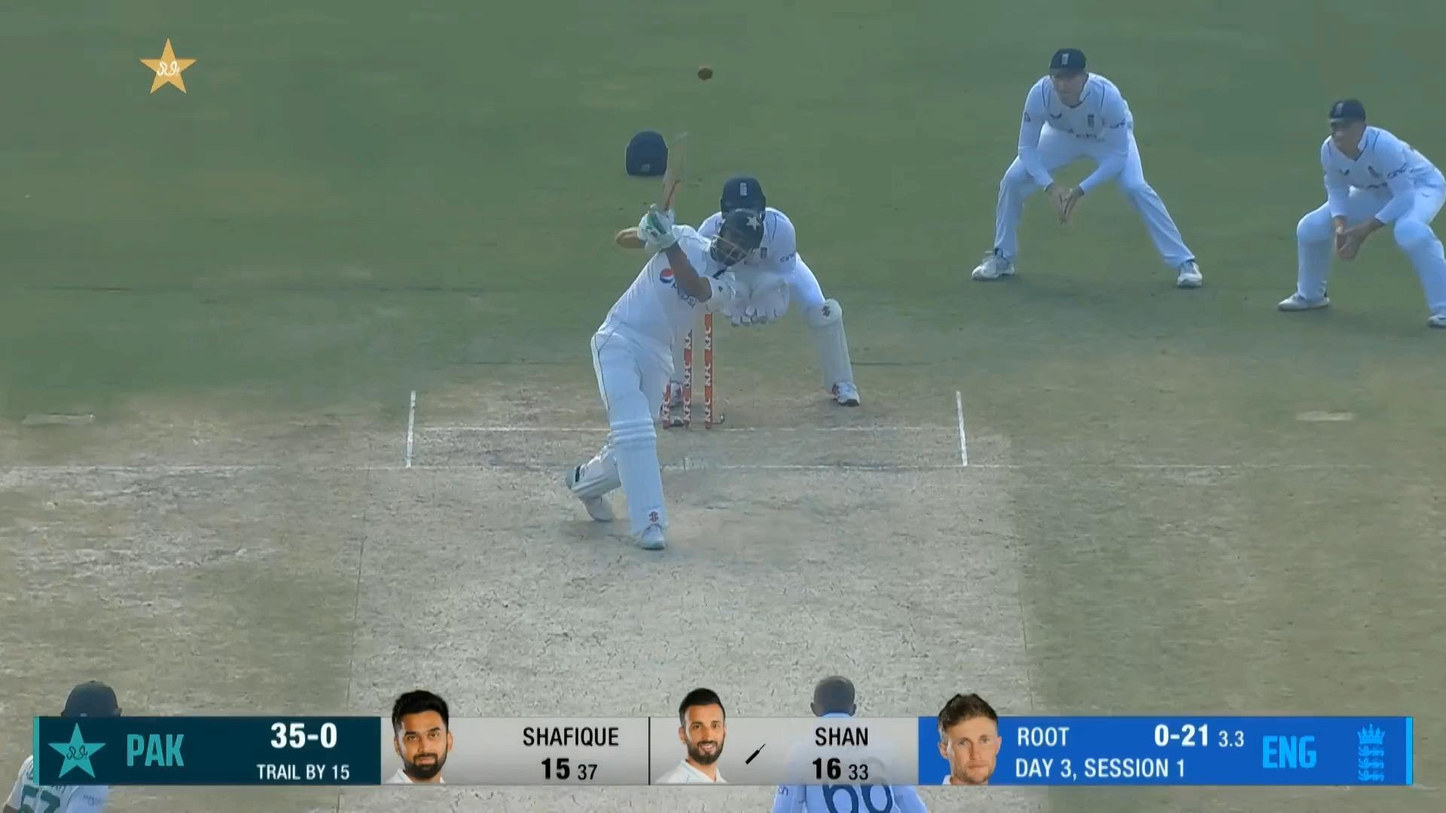BM 1: (566, 132, 763, 551)
BO: (762, 668, 934, 813)
